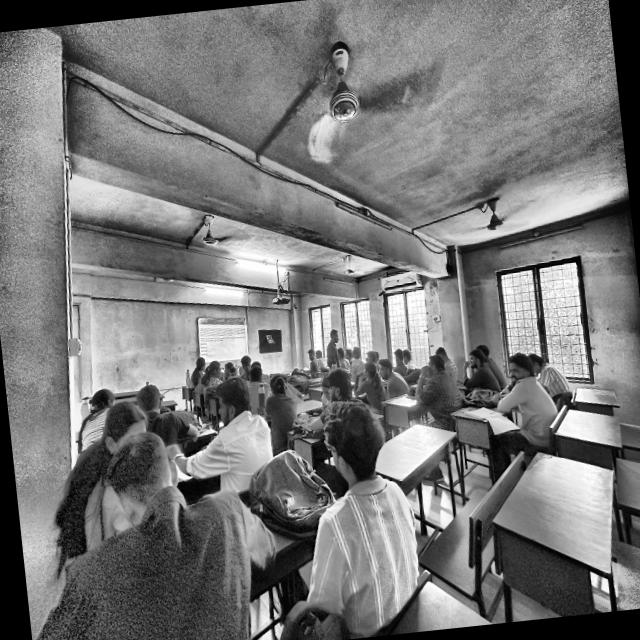Focus: (295, 390, 385, 488), (189, 345, 262, 379), (132, 377, 174, 427), (421, 353, 454, 394), (328, 322, 355, 369), (87, 382, 122, 408)
Not Focus: (114, 422, 180, 512), (204, 372, 260, 433), (104, 392, 154, 447), (496, 348, 534, 394), (358, 359, 383, 397), (466, 348, 491, 378), (376, 355, 396, 391), (304, 342, 318, 364)
